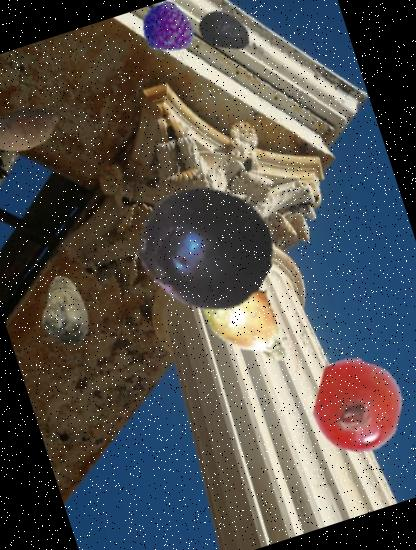Avocado: (191, 0, 259, 64)
Cactus: (180, 252, 317, 388)
Ginger: (18, 266, 107, 356)
Passion: (119, 160, 290, 331)
Potato: (0, 82, 70, 175)
Raspberry: (134, 0, 200, 61)
Redcurrant: (299, 347, 416, 464)
